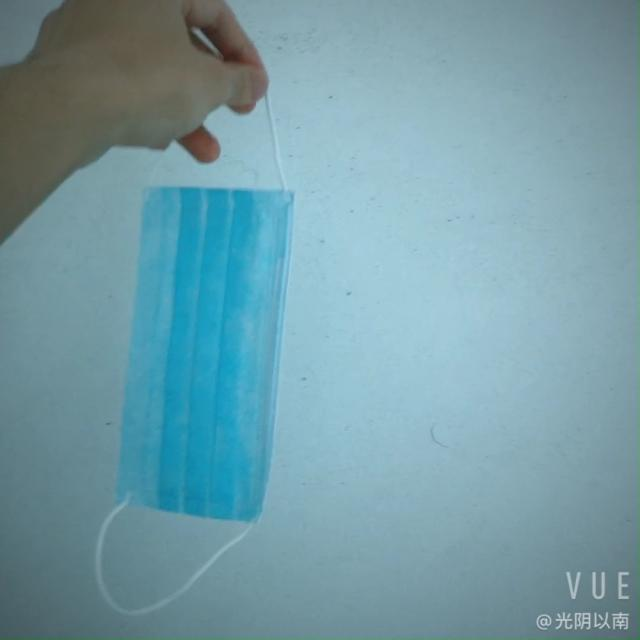non-organic waste: (107, 183, 301, 518)
